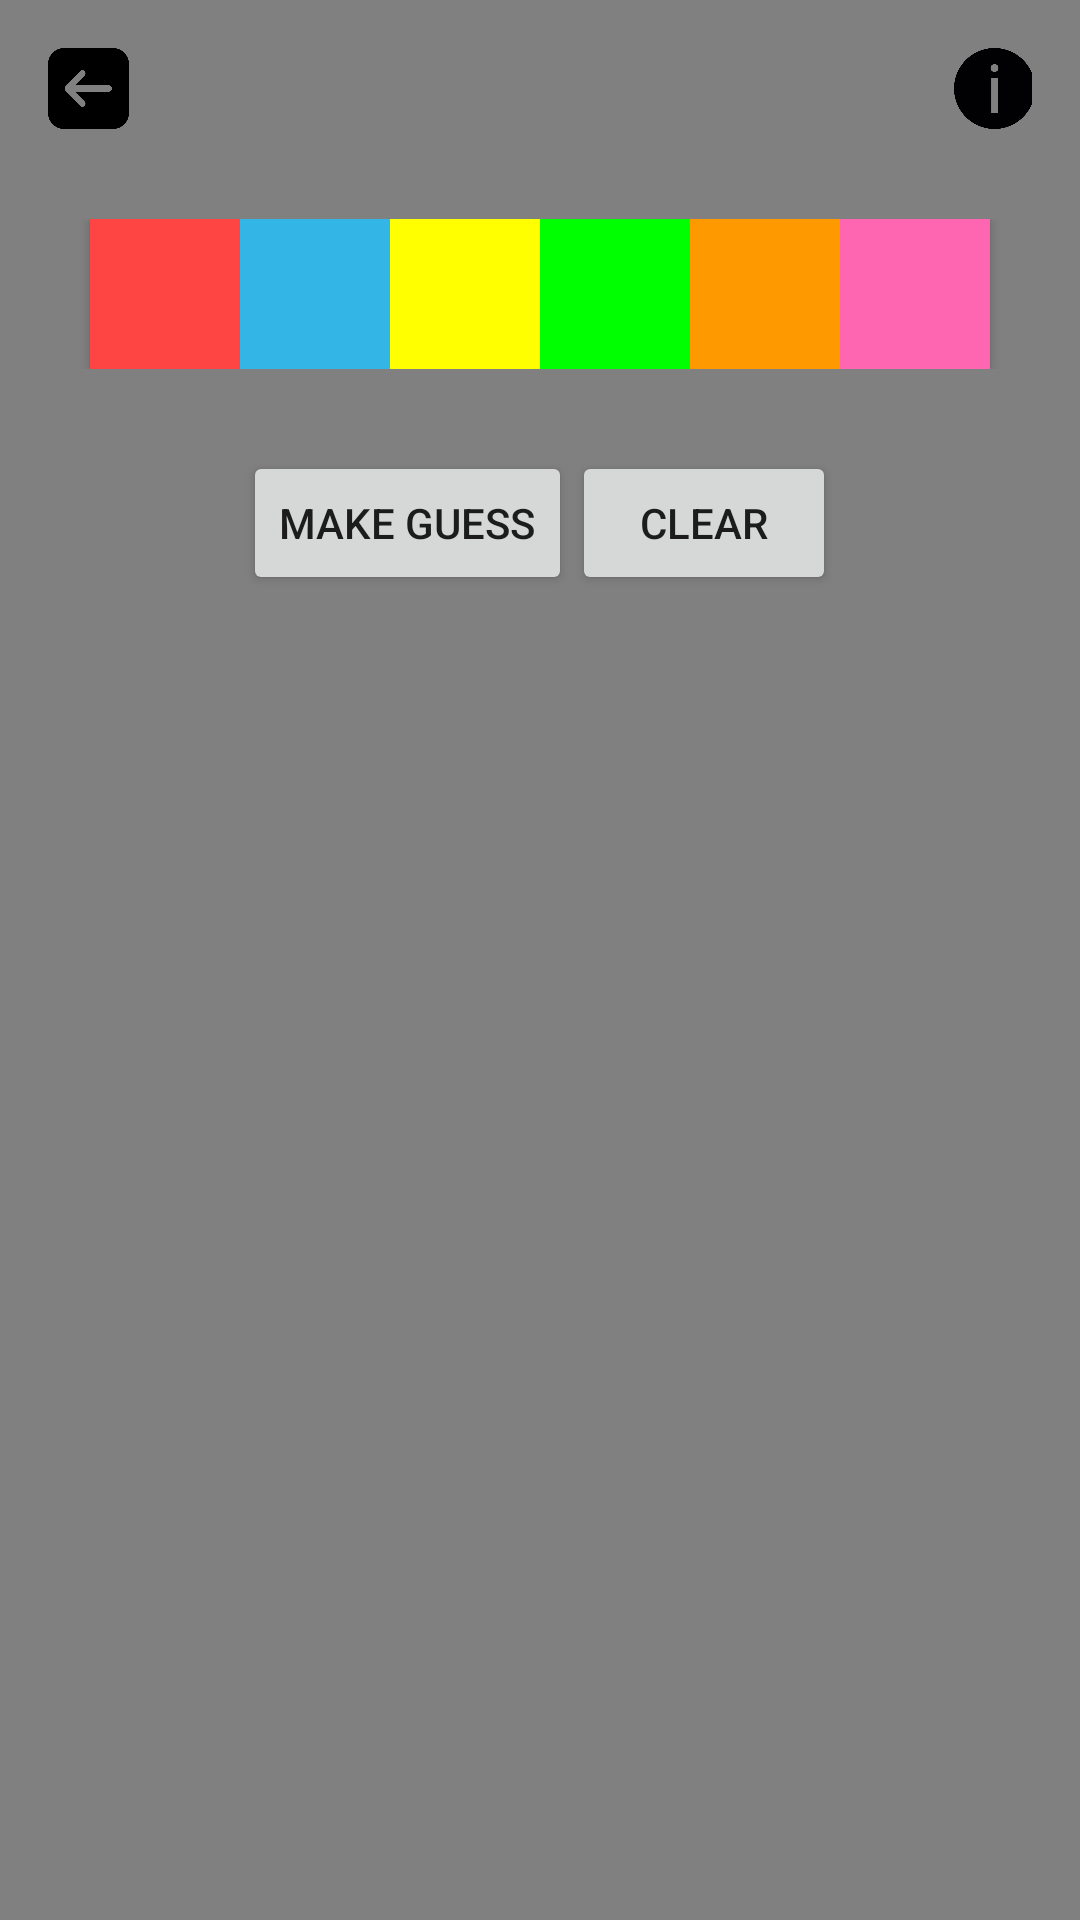

Icons on this 1080 × 1920 Android screen, each with the point to tap as (x,y):
back: (88,88)
info: (993,88)
